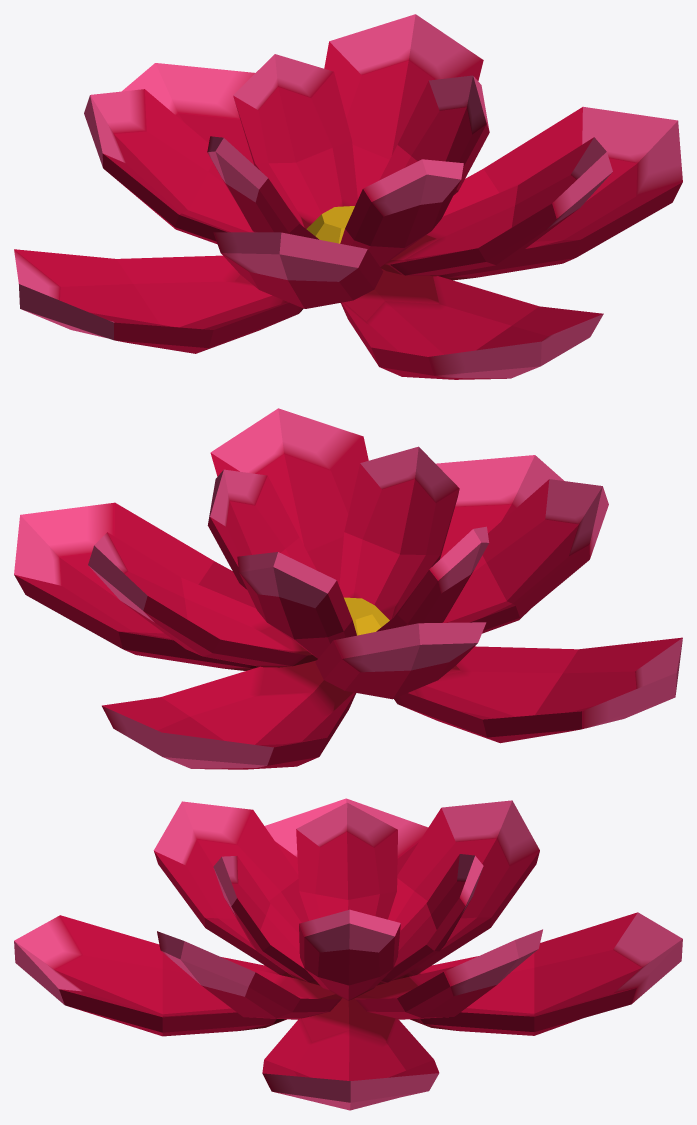
File: Flower_3.fbx
3 renders of one model, top to bottom at view 1: azimuth 30°, elevation 25°; view 2: azimuth 150°, elevation 25°; view 3: azimuth 270°, elevation 25°, orthographic. The views are drawn at different scales.
Visible parts, largest first — view 1: Flower_3; view 2: Flower_3; view 3: Flower_3.
Part boxes in pixels (<box>): Flower_3: <box>14,14,682,379</box>; Flower_3: <box>14,408,682,769</box>; Flower_3: <box>14,798,682,1110</box>.
Size of the model in its own units: 36.92 by 10.46 by 36.92.
